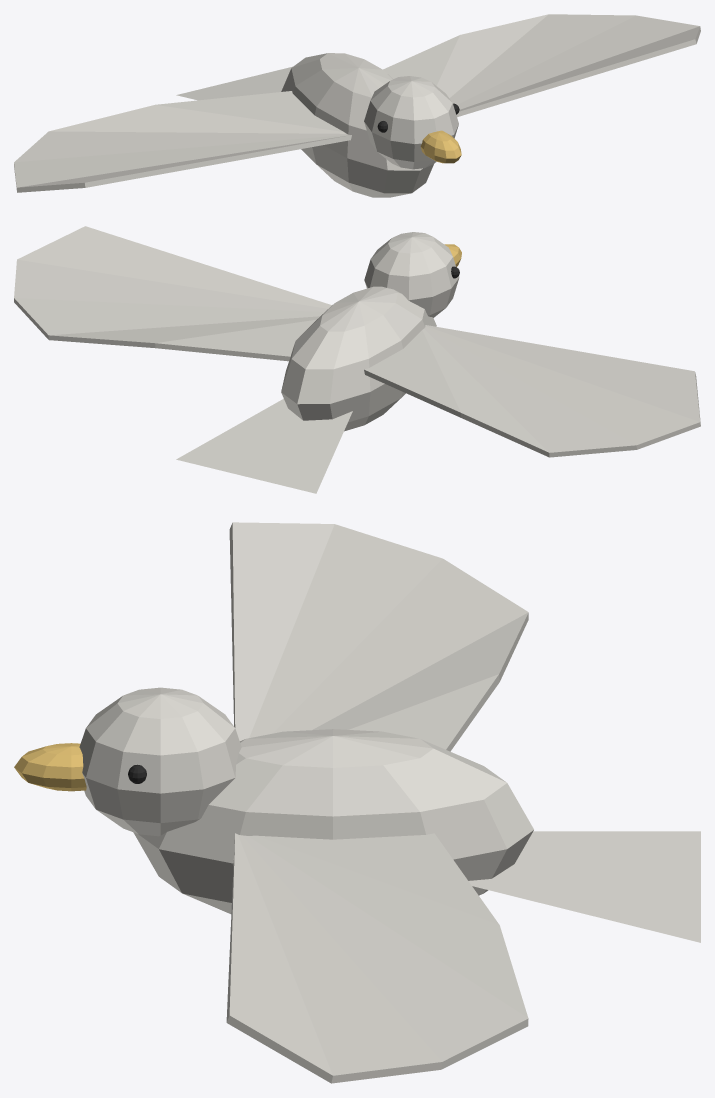
File: knight_coronation_dove.glb
3 renders of one model, top to bottom at view 1: azimuth 30°, elevation 25°; view 2: azimuth 150°, elevation 25°; view 3: azimuth 270°, elevation 25°, orthographic. The views are drawn at different scales.
Parts seen in each view (by area): view 1: WingLeft, WingRight, DoveBody, DoveHead, DoveTail, DoveBeak; view 2: WingLeft, WingRight, DoveBody, DoveTail, DoveHead; view 3: WingRight, WingLeft, DoveBody, DoveHead, DoveTail, DoveBeak.
Part boxes in pixels (x1,y1,x2,y2): WingLeft: (14, 91, 351, 192); WingRight: (383, 14, 700, 117); DoveBody: (281, 53, 433, 197); DoveHead: (364, 76, 458, 169); DoveTail: (176, 66, 292, 100); DoveBeak: (420, 130, 461, 163); WingLeft: (364, 325, 700, 457); WingRight: (14, 226, 331, 361); DoveBody: (281, 286, 436, 431); DoveTail: (176, 398, 352, 493); DoveHead: (364, 232, 459, 317); WingRight: (226, 833, 528, 1083); WingLeft: (229, 522, 528, 751); DoveBody: (133, 729, 533, 913); DoveHead: (79, 687, 241, 836); DoveTail: (468, 831, 700, 942); DoveBeak: (14, 743, 86, 791).
Bounding box in the file's own units: 2.24 × 0.44 × 1.2.
